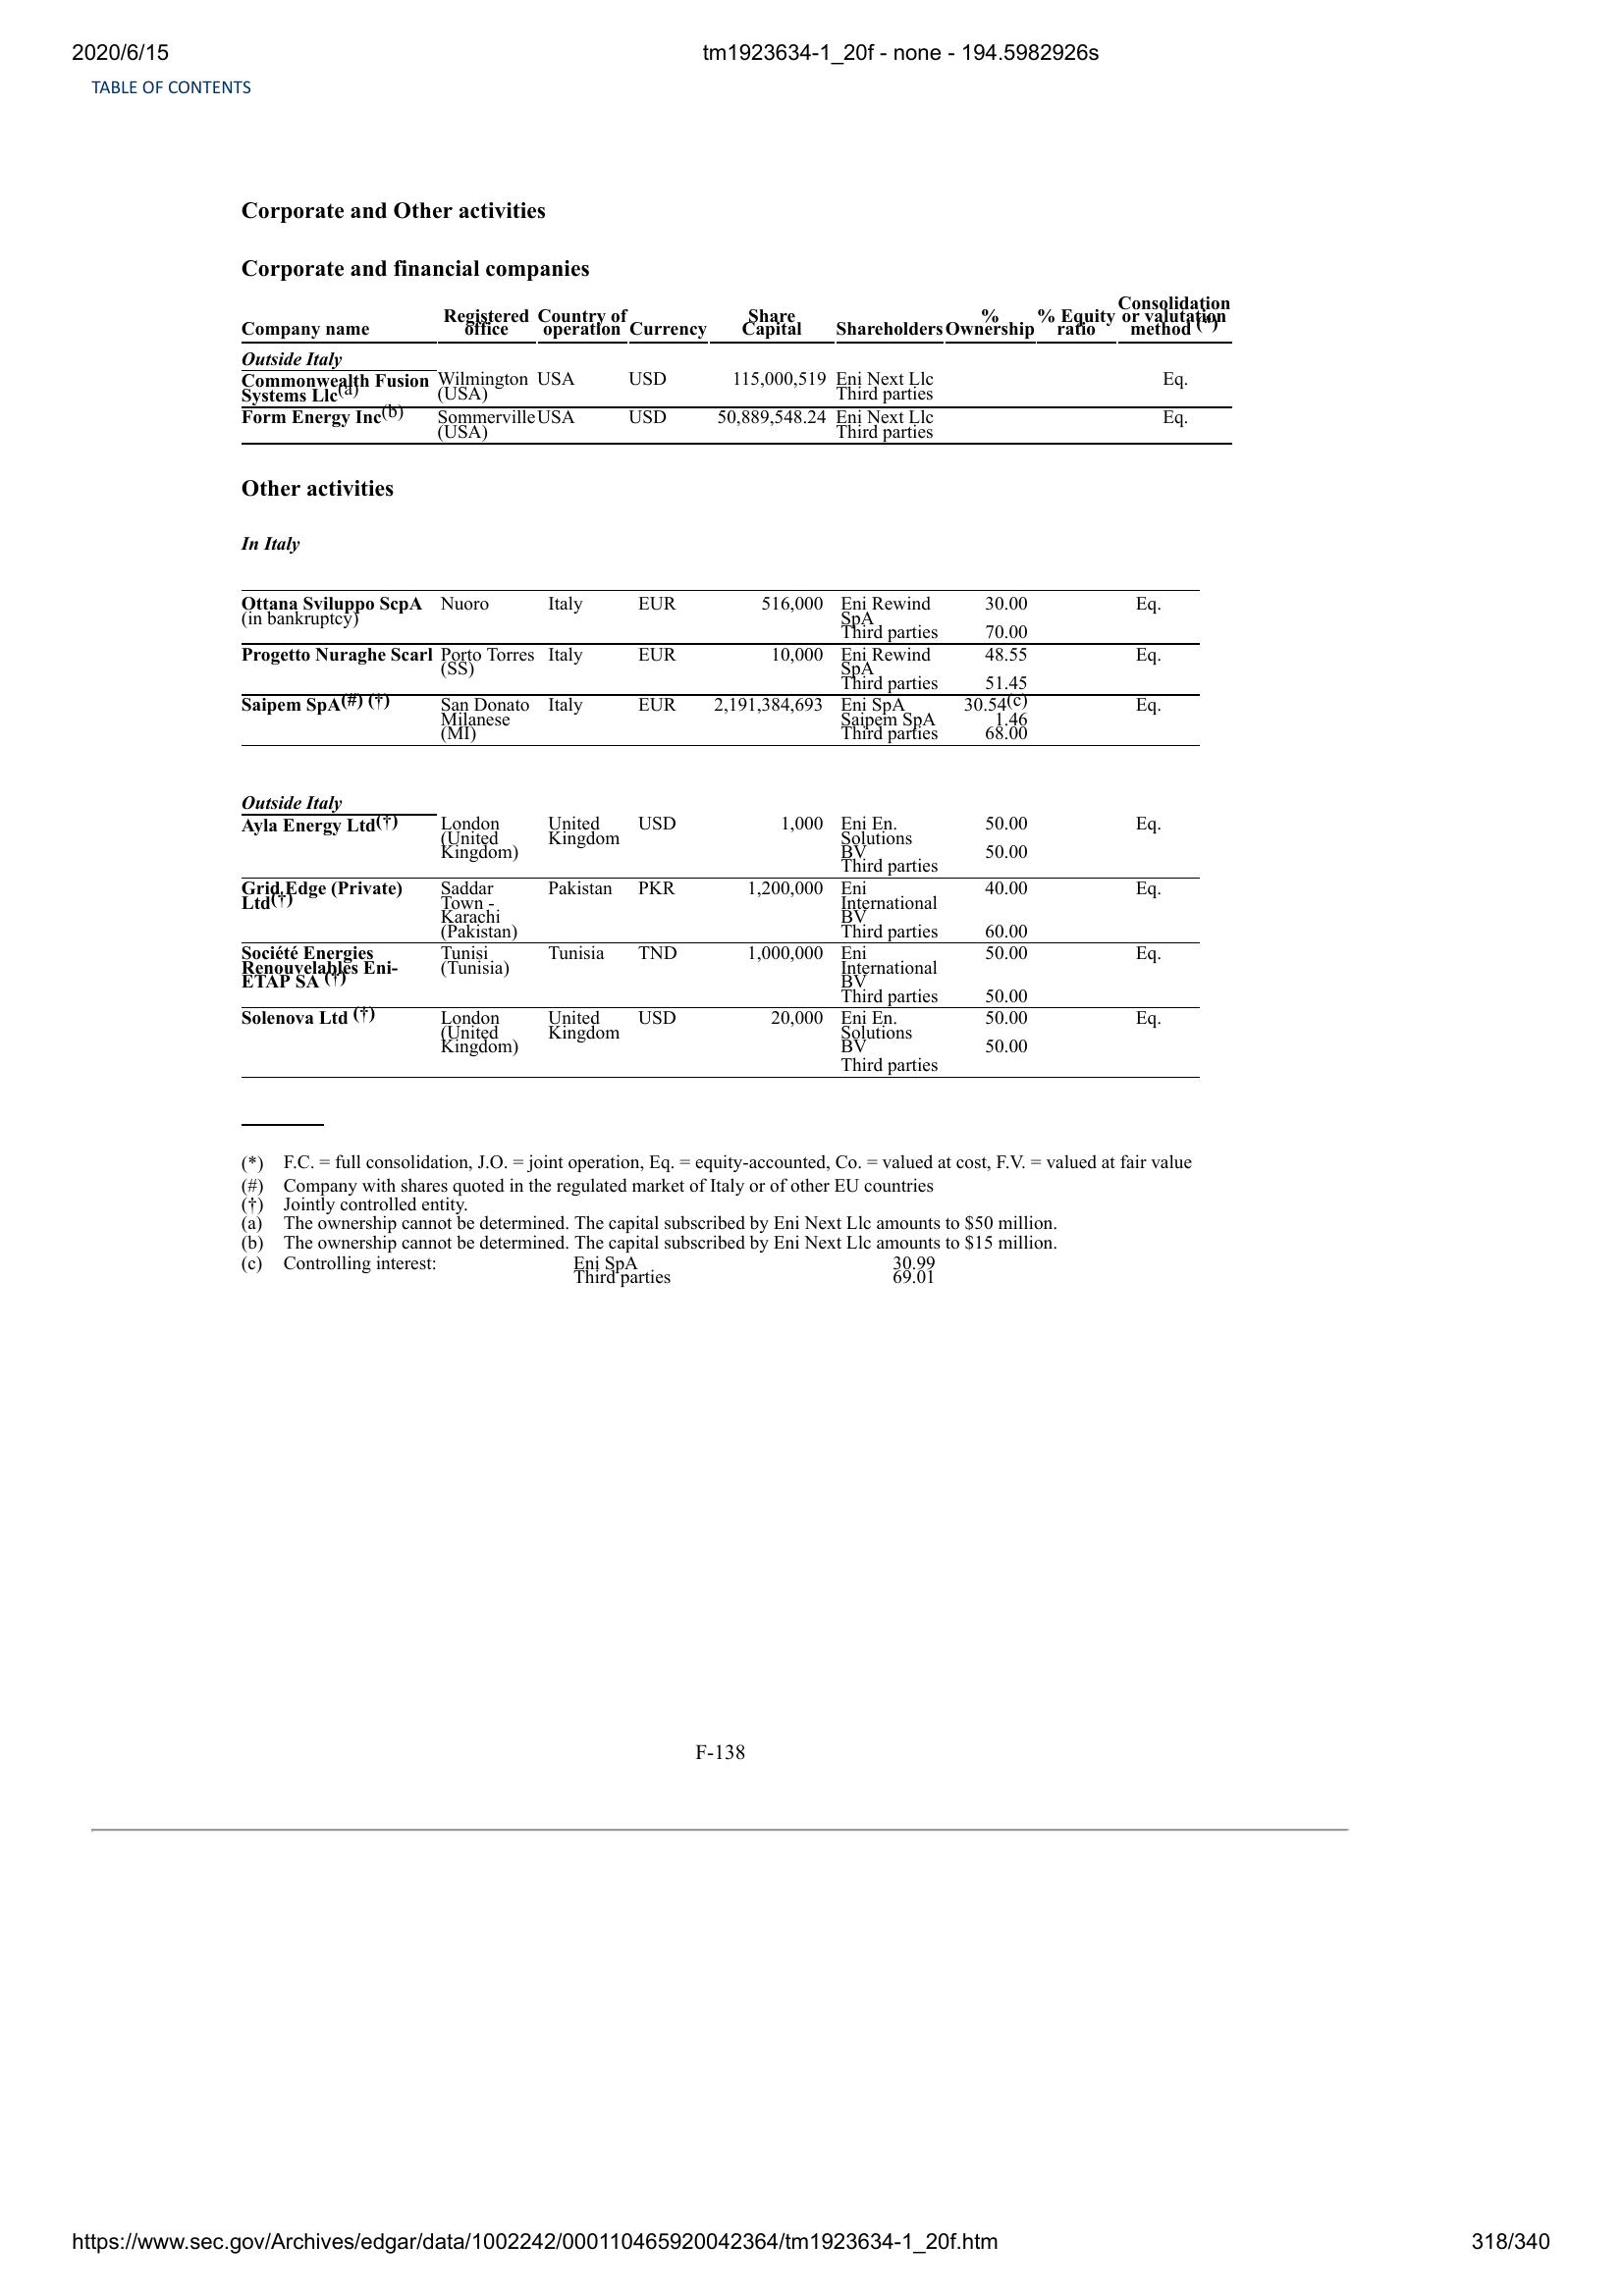table: (232, 283, 1240, 1090)
